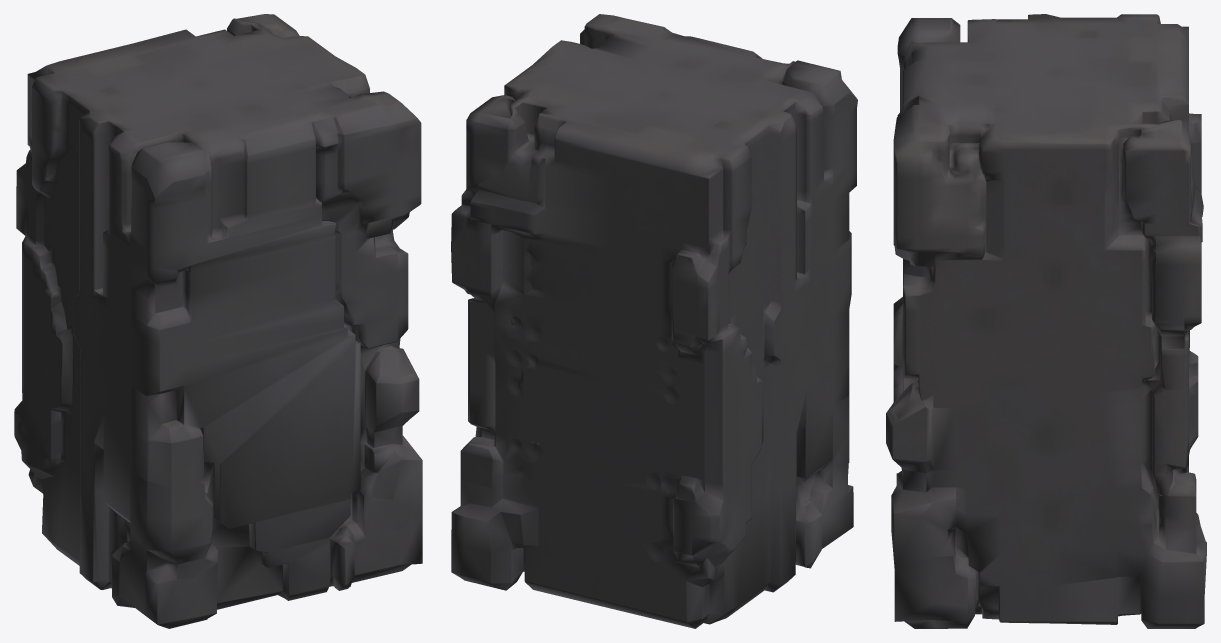
File: wall_pillar.glb
The picture shows the model from 3 angles, left to right: view 1: azimuth 30°, elevation 25°; view 2: azimuth 150°, elevation 25°; view 3: azimuth 270°, elevation 25°; orthographic projection. The views are drawn at different scales.
Visible parts, largest first — view 1: tripo_node_cd58f72e-f394-47b0-9107-26a8e9078262; view 2: tripo_node_cd58f72e-f394-47b0-9107-26a8e9078262; view 3: tripo_node_cd58f72e-f394-47b0-9107-26a8e9078262.
Part boxes in pixels (<box>): tripo_node_cd58f72e-f394-47b0-9107-26a8e9078262: <box>14,14,422,628</box>; tripo_node_cd58f72e-f394-47b0-9107-26a8e9078262: <box>451,14,857,628</box>; tripo_node_cd58f72e-f394-47b0-9107-26a8e9078262: <box>886,14,1206,628</box>.
Size of the model in its own units: 0.593 by 1 by 0.593.
1 material, 1 textured.
